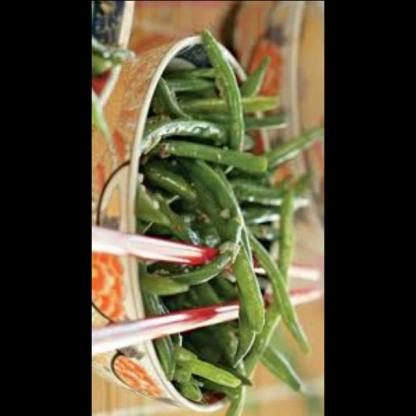fasol: (159, 26, 325, 416)
